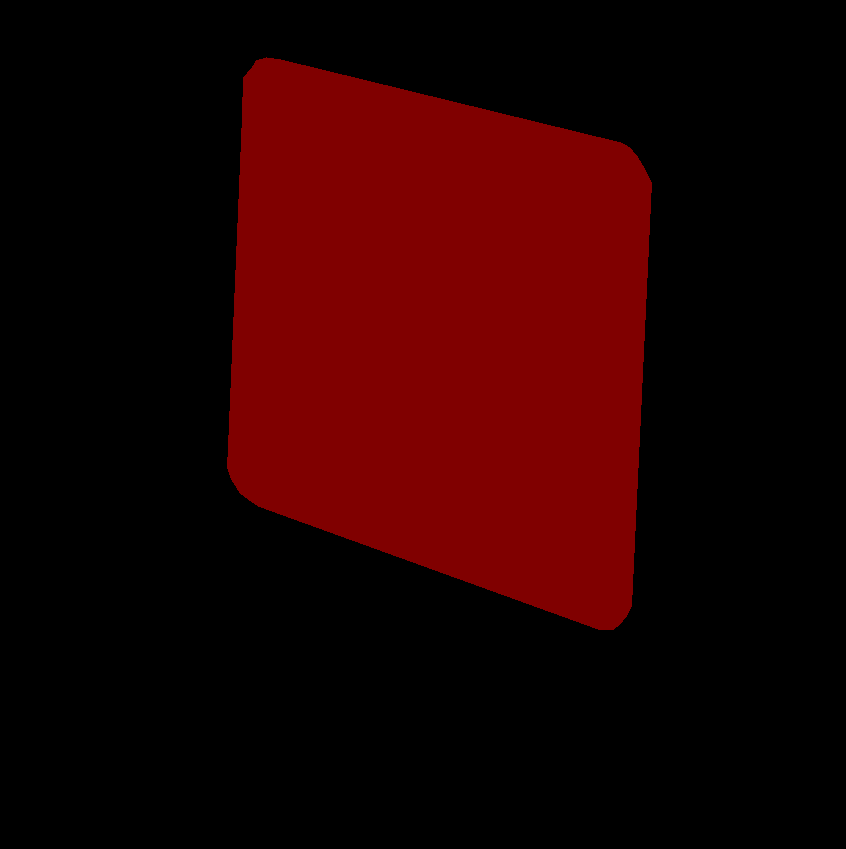sign: (227, 57, 651, 629)
